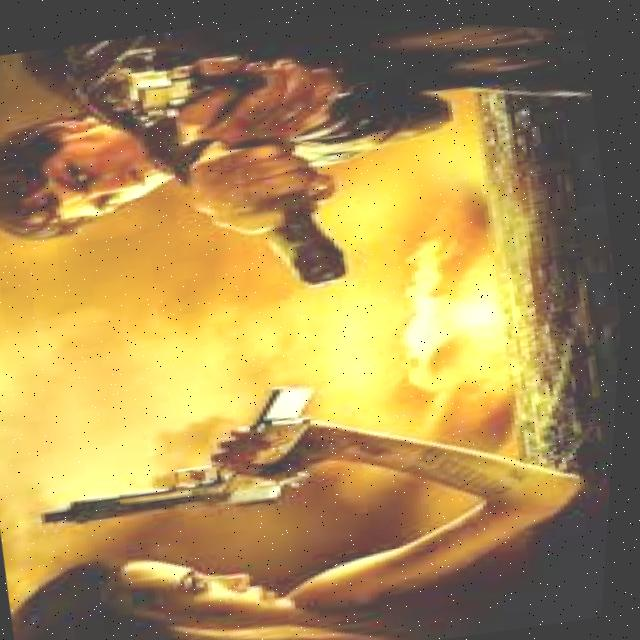pistol: (28, 367, 344, 546), (99, 21, 280, 139), (258, 185, 356, 290)
